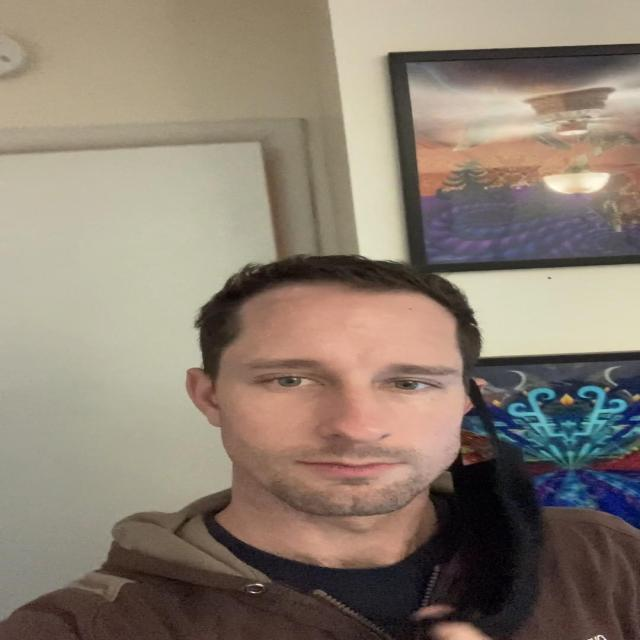no-helmet: (194, 268, 482, 543)
